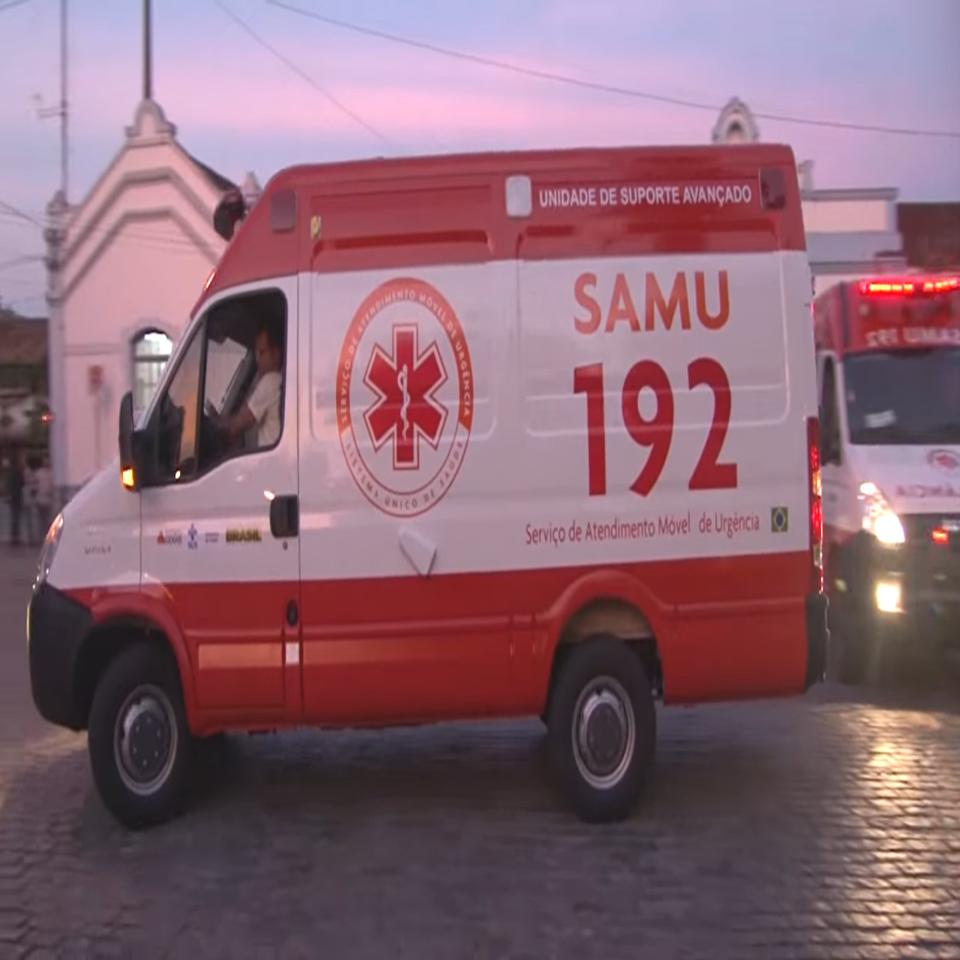ambulancia: (30, 135, 825, 819), (820, 272, 960, 706)
